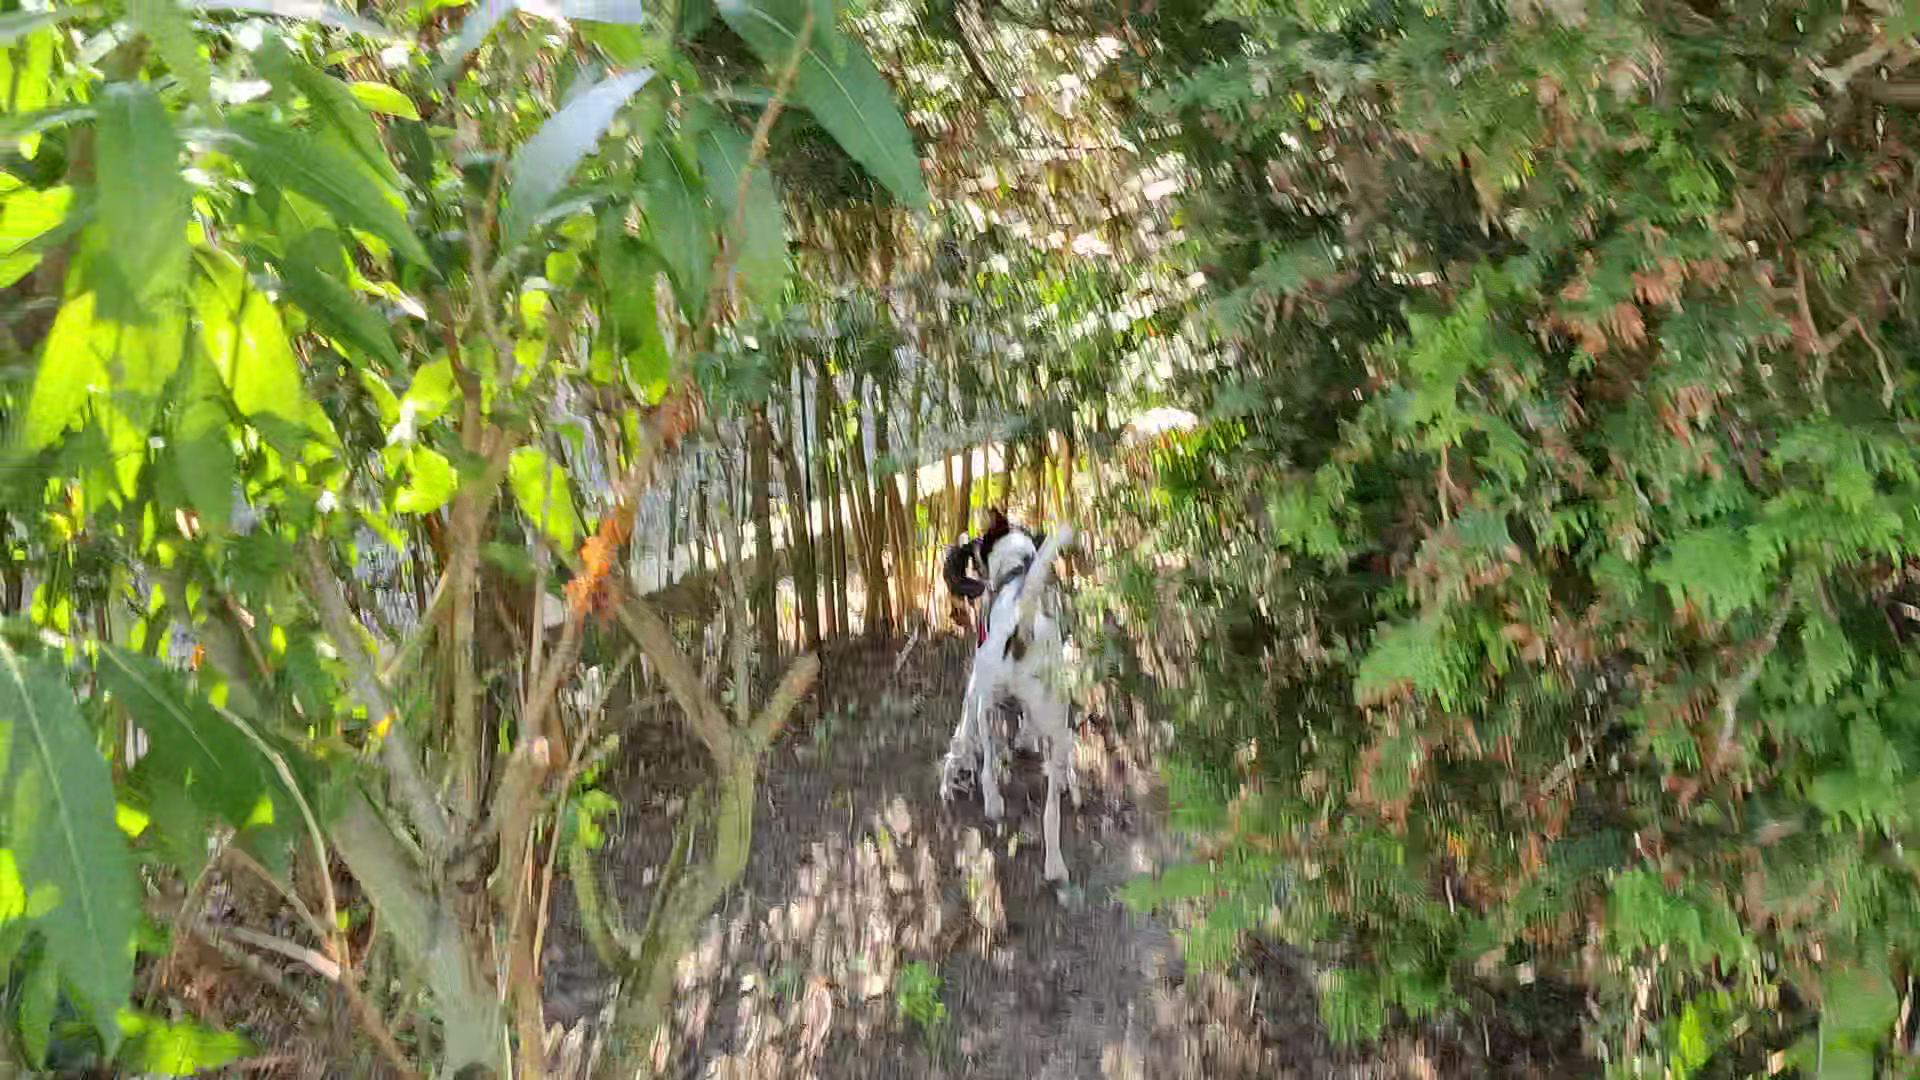Dog: (935, 498, 1127, 891)
